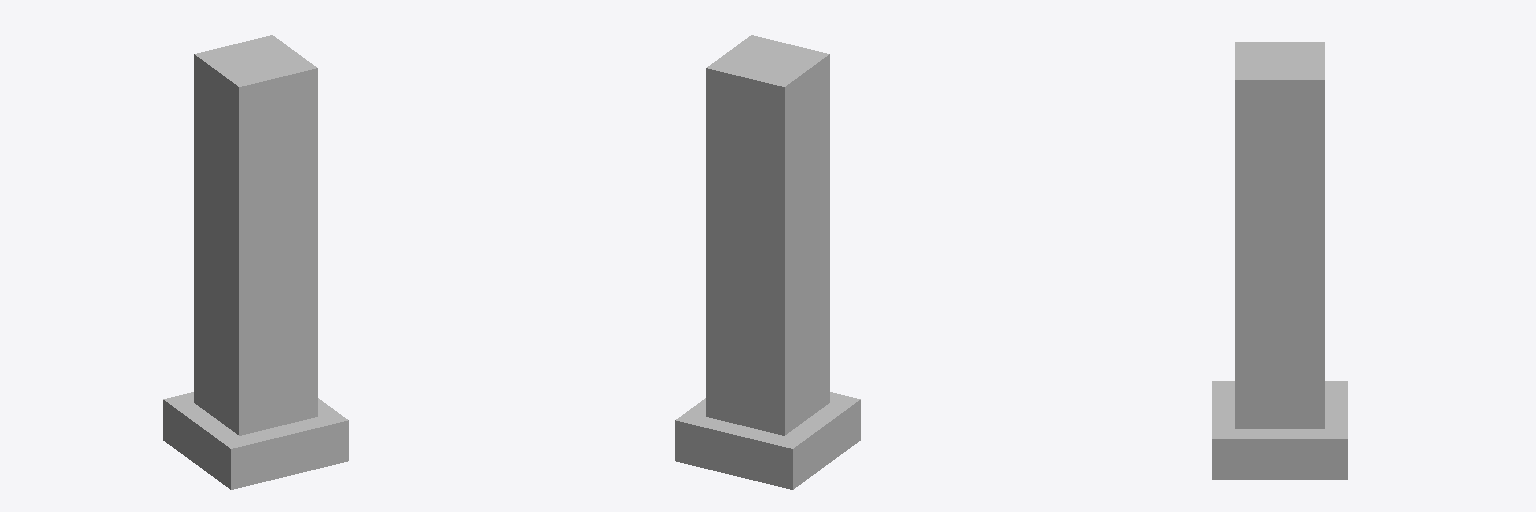
Rendered from single_axel_leading_truck_pin.obj.
3 renders of one model, left to right at view 1: azimuth 30°, elevation 25°; view 2: azimuth 150°, elevation 25°; view 3: azimuth 270°, elevation 25°, orthographic.
Parts seen in each view (by area): view 1: cube; view 2: cube; view 3: cube.
Part boxes in pixels (bbox=[...]): cube: bbox=[163, 35, 348, 489]; cube: bbox=[675, 35, 860, 489]; cube: bbox=[1212, 42, 1347, 479].
Size of the model in its own units: 0.375 by 1.19 by 0.375.